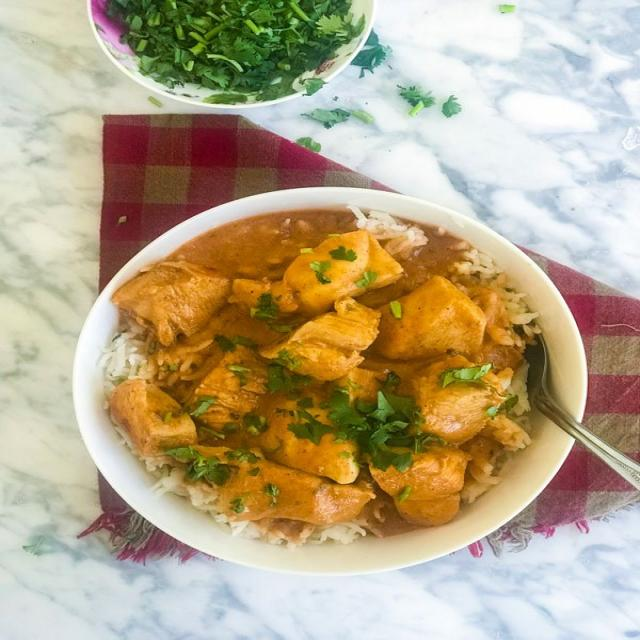Butter Chicken: (99, 211, 541, 527)
